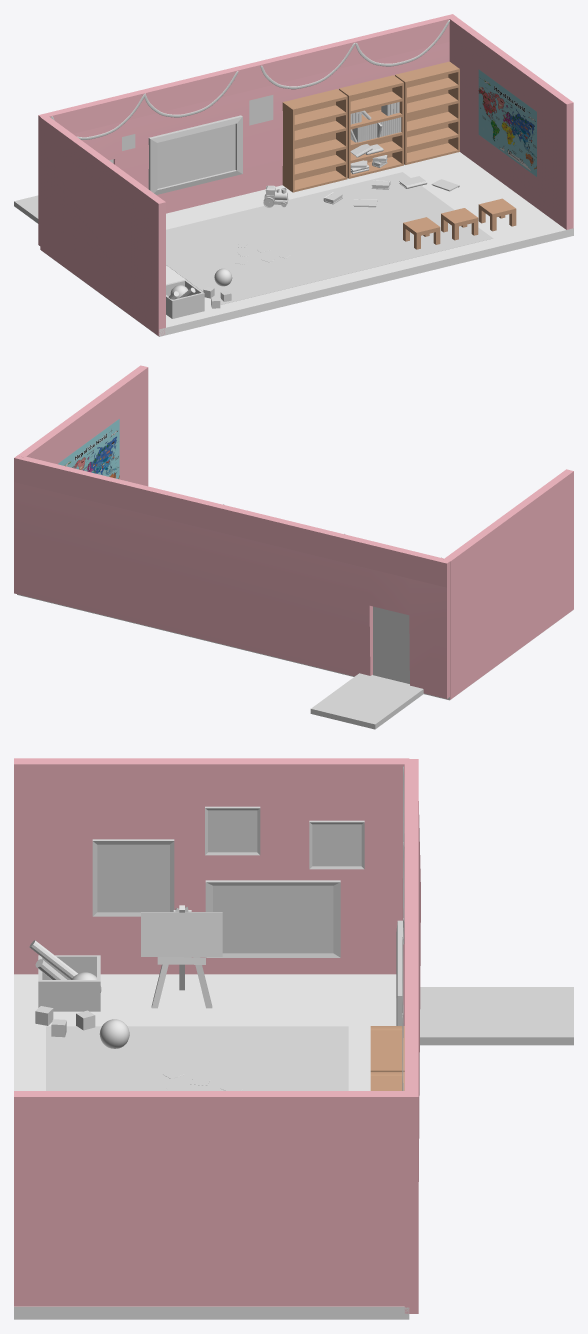
File: Playroomj.fbx
3 renders of one model, top to bottom at view 1: azimuth 30°, elevation 25°; view 2: azimuth 150°, elevation 25°; view 3: azimuth 270°, elevation 25°, orthographic. The views are drawn at different scales.
Parts seen in each view (by area): view 1: Backwall, Rug1, Left_Wall, Flooring, RightWall, pasted__pCube2, Big_Frame, Shelf:pasted__pCube1, pPlane1, pasted__pCube1, Book_Shelf1:pCube42, Toy_box:pCube1 (+6 smaller); view 2: Backwall, Left_Wall, RightWall, pCube16, Door_test:pCube1, pPlane1, Flooring; view 3: RightWall, Left_Wall, Flooring, Rug1, pCube16, Backwall, Painting_2, Painting_1, pPlane2, Toy_box:pCube1, Frame_2, Painting_3 (+8 smaller).
Boxes of the visible parts, <box> form: Backwall: <box>38,14,454,245</box>; Rug1: <box>166,172,492,304</box>; Left_Wall: <box>40,115,165,336</box>; Flooring: <box>48,152,573,336</box>; RightWall: <box>448,16,573,229</box>; pasted__pCube2: <box>282,89,347,192</box>; Big_Frame: <box>148,115,242,194</box>; Shelf:pasted__pCube1: <box>395,61,459,164</box>; pPlane1: <box>478,69,536,176</box>; pasted__pCube1: <box>339,75,403,178</box>; Book_Shelf1:pCube42: <box>350,102,401,174</box>; Toy_box:pCube1: <box>166,279,204,318</box>; Backwall: <box>14,455,449,698</box>; Left_Wall: <box>443,469,573,699</box>; RightWall: <box>17,365,148,486</box>; pCube16: <box>310,673,423,729</box>; Door_test:pCube1: <box>373,606,409,683</box>; pPlane1: <box>58,419,119,479</box>; Flooring: <box>17,594,569,700</box>; RightWall: <box>14,1091,409,1306</box>; Left_Wall: <box>14,758,409,974</box>; Flooring: <box>14,974,409,1319</box>; Rug1: <box>46,1026,348,1090</box>; pCube16: <box>420,987,573,1045</box>; Backwall: <box>402,759,420,1313</box>; Painting_2: <box>213,885,333,953</box>; Painting_1: <box>97,844,169,912</box>; pPlane2: <box>143,914,220,954</box>; Toy_box:pCube1: <box>38,955,100,1011</box>; Frame_2: <box>205,880,340,957</box>; Painting_3: <box>208,810,257,851</box>.
Bounding box in the file's own units: 17.35 × 5.33 × 12.13.
Materials: 5 (4 with a texture image).
